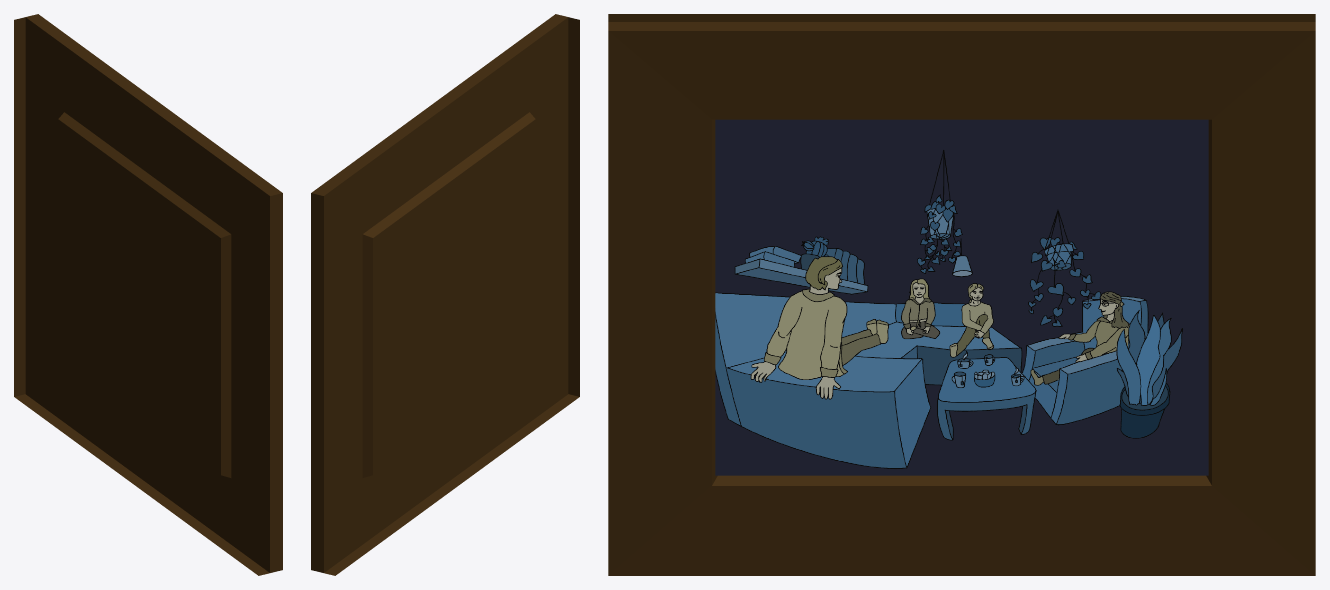
The model's file is Rahmen1.glb.
3 views of the same model, side by side, from view 1: azimuth 30°, elevation 25°; view 2: azimuth 150°, elevation 25°; view 3: azimuth 270°, elevation 25° (orthographic). The views are drawn at different scales.
Visible parts, largest first — view 1: Plane.001, Plane; view 2: Plane.001, Plane; view 3: Plane.001, Bubble1, Plane.
Part boxes in pixels (<box>): Plane.001: <box>25,14,282,572</box>; Plane: <box>14,17,269,575</box>; Plane.001: <box>311,14,568,572</box>; Plane: <box>324,17,579,575</box>; Plane.001: <box>608,22,1315,575</box>; Bubble1: <box>715,119,1208,475</box>; Plane: <box>608,14,1315,21</box>.
Size of the model in its own units: 0.1001 by 1.49 by 1.75.
Materials: 2 (1 with a texture image).
